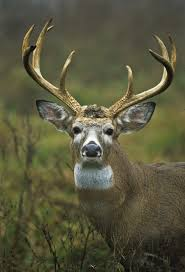Deer: (19, 16, 185, 271)
